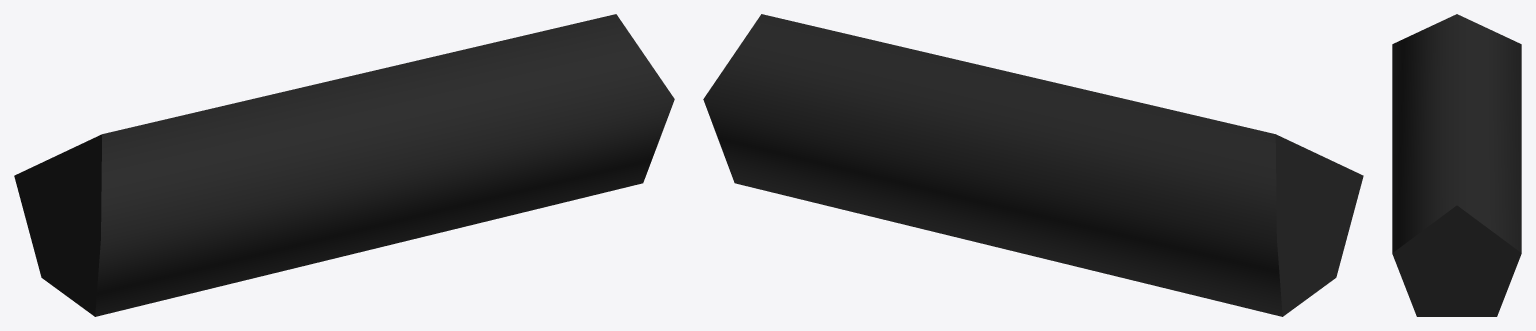
The model's file is Crayon_I.FBX.
The picture shows the model from 3 angles, left to right: view 1: azimuth 30°, elevation 25°; view 2: azimuth 150°, elevation 25°; view 3: azimuth 270°, elevation 25°; orthographic projection. The views are drawn at different scales.
Parts seen in each view (by area): view 1: Crayon_And_Chalk; view 2: Crayon_And_Chalk; view 3: Crayon_And_Chalk.
Boxes of the visible parts, <box> form: Crayon_And_Chalk: <box>14,14,674,316</box>; Crayon_And_Chalk: <box>703,14,1363,316</box>; Crayon_And_Chalk: <box>1392,14,1521,316</box>.
Size of the model in its own units: 29.04 by 7.49 by 7.61.
